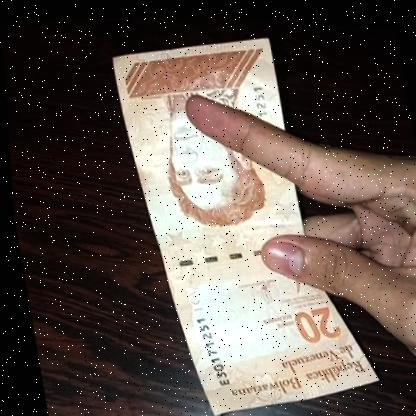vef_front: (105, 19, 389, 416)
